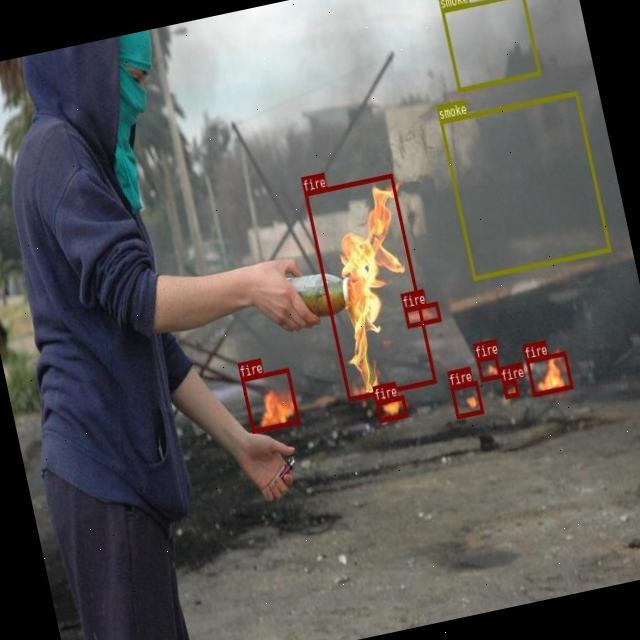fire: (304, 173, 436, 400), (240, 367, 299, 432), (524, 351, 572, 396), (449, 380, 484, 417), (404, 300, 441, 327), (374, 394, 407, 422), (475, 353, 501, 381), (502, 378, 519, 398)
smoke: (439, 90, 611, 280), (439, 0, 539, 91)
